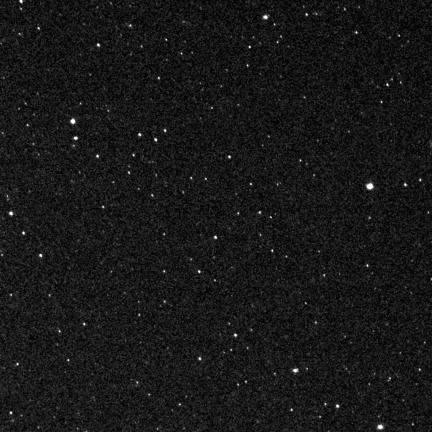blob: (71, 119, 75, 124)
